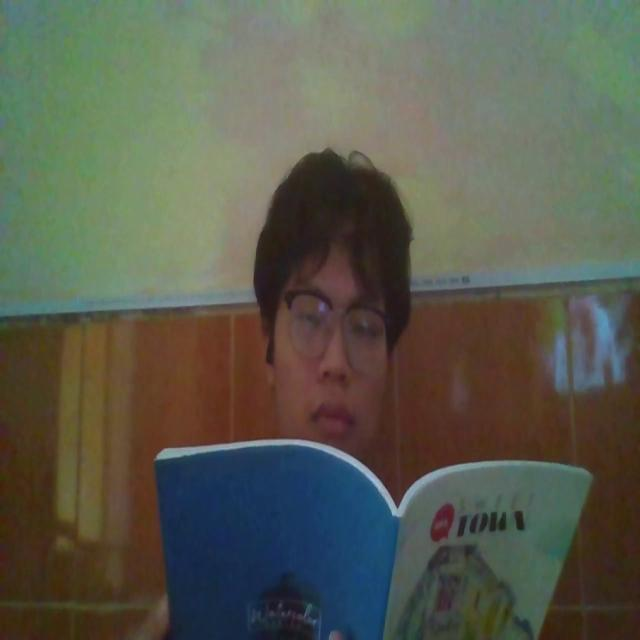book: (147, 426, 592, 640)
student: (243, 136, 415, 463)
